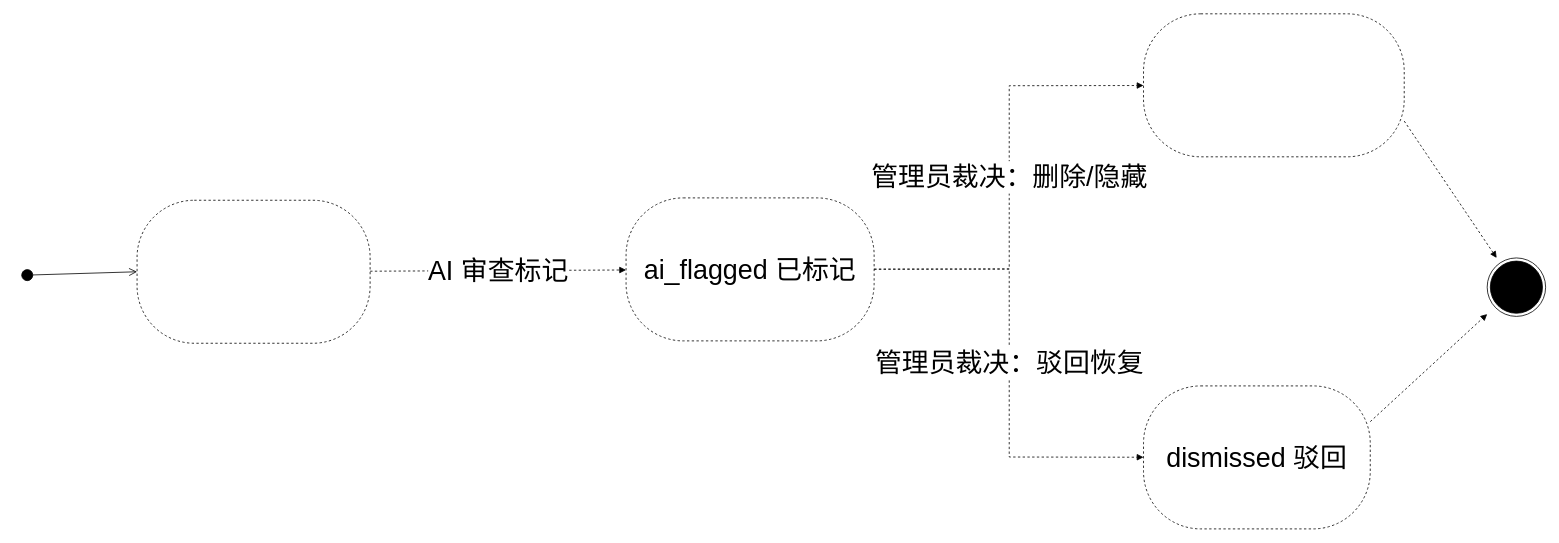
Some shapes in this 1559 by 543 pixel diagram are drawn without their labels. Each missing label, with the box of its shape:
pending 待处理: (136, 199, 370, 343)
resolved 已处置: (1143, 13, 1404, 157)
